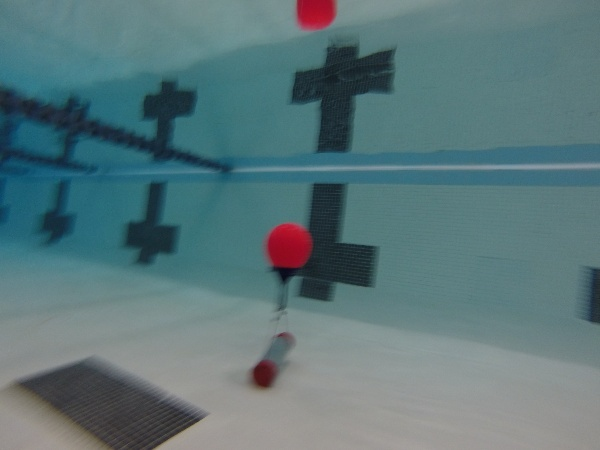buoy_red: (263, 222, 314, 288)
